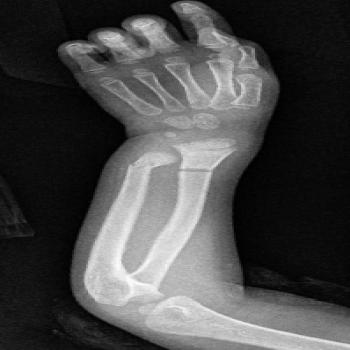Fracture: (173, 162, 224, 175), (125, 158, 160, 174)
